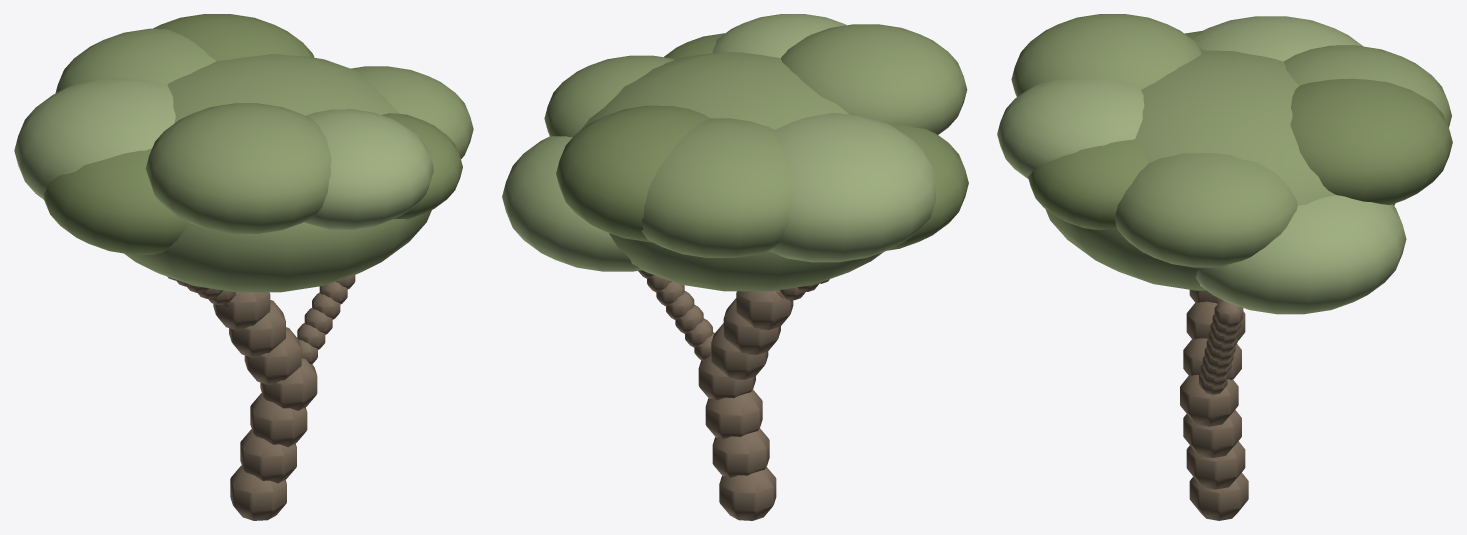
The model's file is veg_oliveira.glb.
3 views of the same model, side by side, from view 1: azimuth 30°, elevation 25°; view 2: azimuth 150°, elevation 25°; view 3: azimuth 270°, elevation 25° (orthographic).
Visible parts, largest first — view 1: veg_oliveira; view 2: veg_oliveira; view 3: veg_oliveira.
Boxes of the visible parts, left/top/right/bottom form: veg_oliveira: left=14, top=14, right=473, bottom=520; veg_oliveira: left=502, top=14, right=968, bottom=520; veg_oliveira: left=997, top=14, right=1452, bottom=520.
Bounding box in the file's own units: 4.72 × 5.15 × 4.65.
